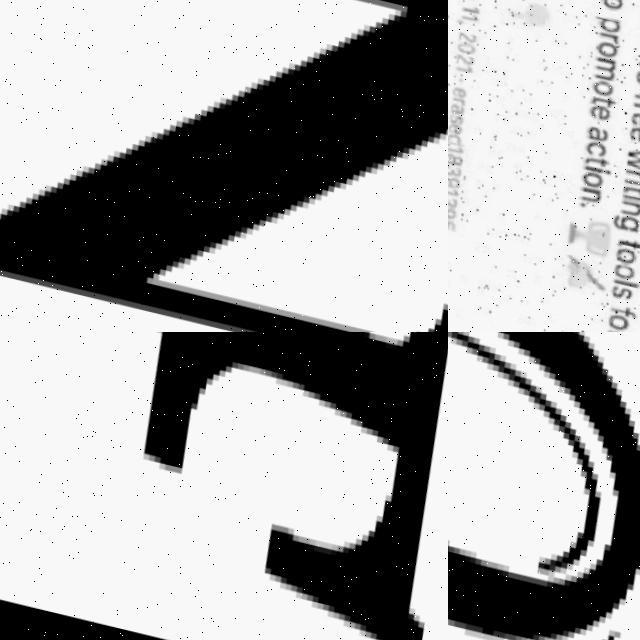0: (448, 332, 640, 640), (453, 39, 474, 55), (629, 66, 640, 87)
1: (457, 9, 478, 22), (448, 59, 469, 72), (458, 0, 478, 12), (632, 52, 640, 70), (448, 141, 459, 153), (448, 183, 454, 195)
2: (454, 27, 475, 43), (451, 50, 472, 65)
3: (448, 161, 457, 176), (448, 192, 454, 207)
8: (448, 150, 458, 165)
9: (448, 172, 455, 188), (448, 203, 452, 218)
F: (0, 332, 448, 640)
N: (0, 0, 448, 332)
